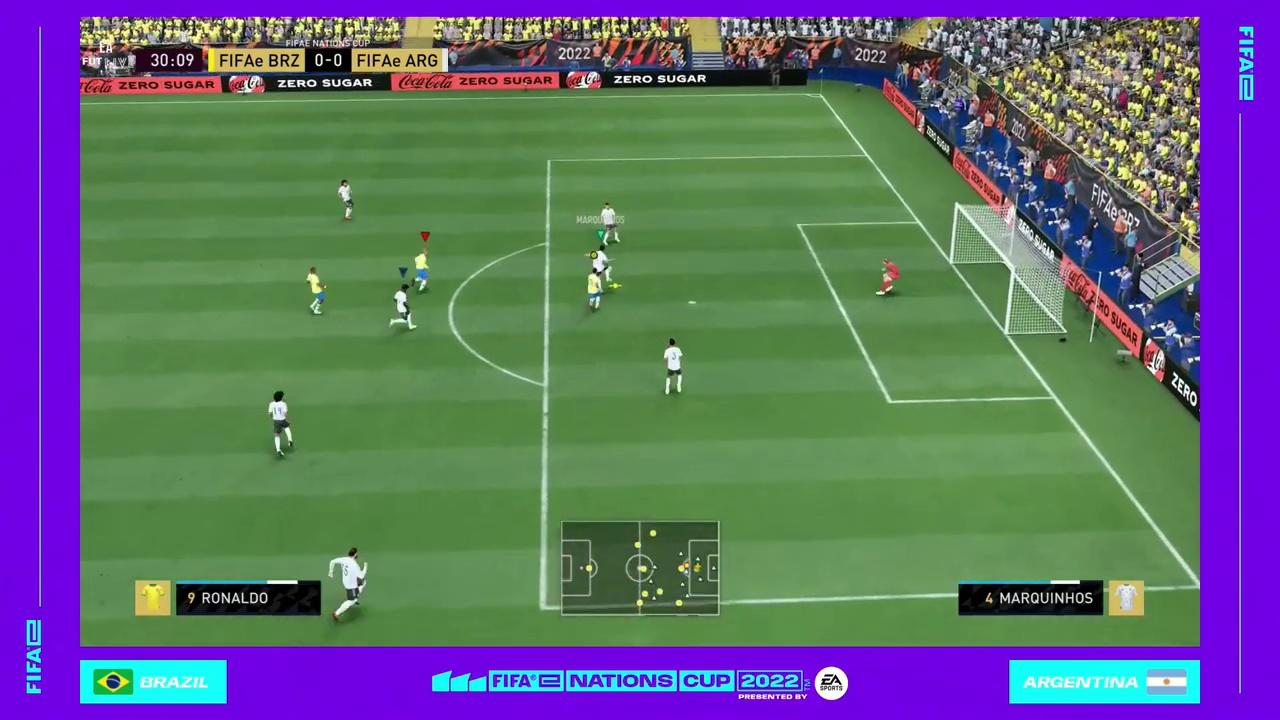scoreboard: (212, 47, 452, 74)
timestamp: (138, 46, 201, 73)
